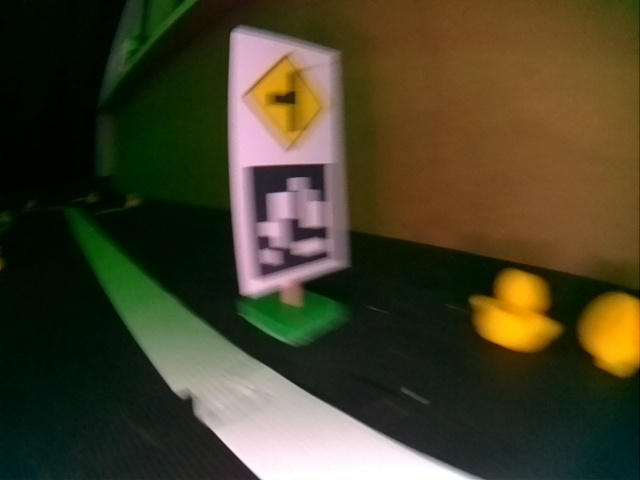Duckie: (470, 266, 563, 352), (578, 290, 638, 377)
Intersection sign: (238, 38, 338, 152)
QR code: (241, 162, 334, 284)
